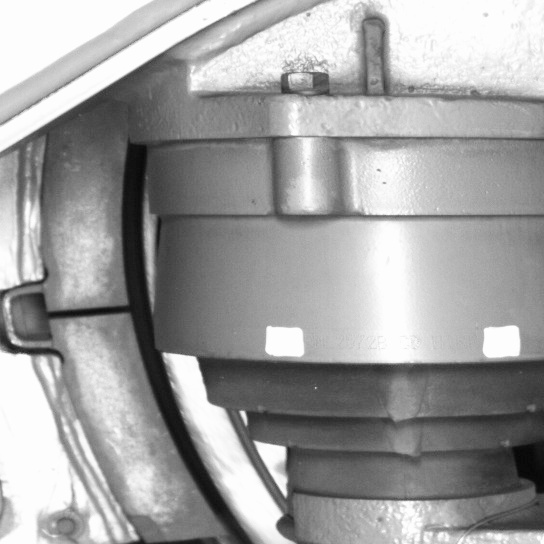KnifeSwitch: (49, 137, 261, 542)
